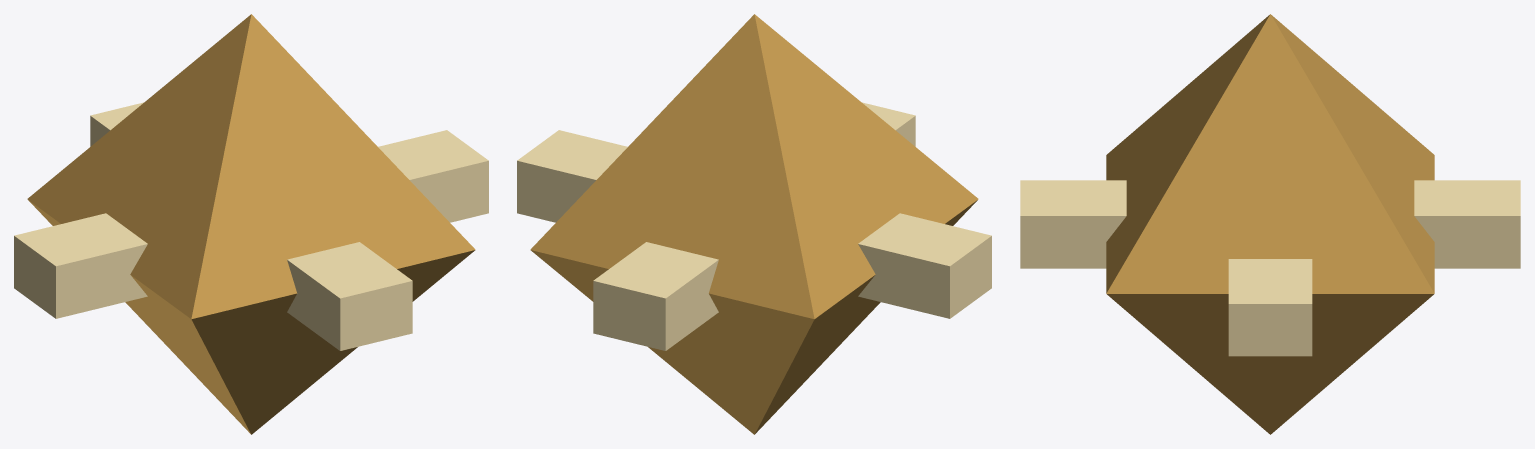
Rendered from flyer-shape-cross-arm-diamond-v1.glb.
3 renders of one model, left to right at view 1: azimuth 30°, elevation 25°; view 2: azimuth 150°, elevation 25°; view 3: azimuth 270°, elevation 25°, orthographic.
Parts seen in each view (by area): view 1: Cross-Arm Diamond; view 2: Cross-Arm Diamond; view 3: Cross-Arm Diamond.
Boxes of the visible parts, x1,y1,x2,y2 form: Cross-Arm Diamond: (14,14,488,434); Cross-Arm Diamond: (517,14,991,434); Cross-Arm Diamond: (1020,14,1520,434).
Size of the model in its own units: 1.55 by 1.44 by 1.55.
